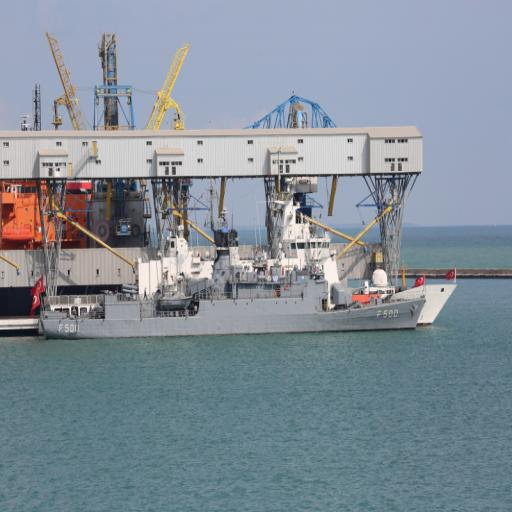Fragata: (32, 197, 430, 344)
